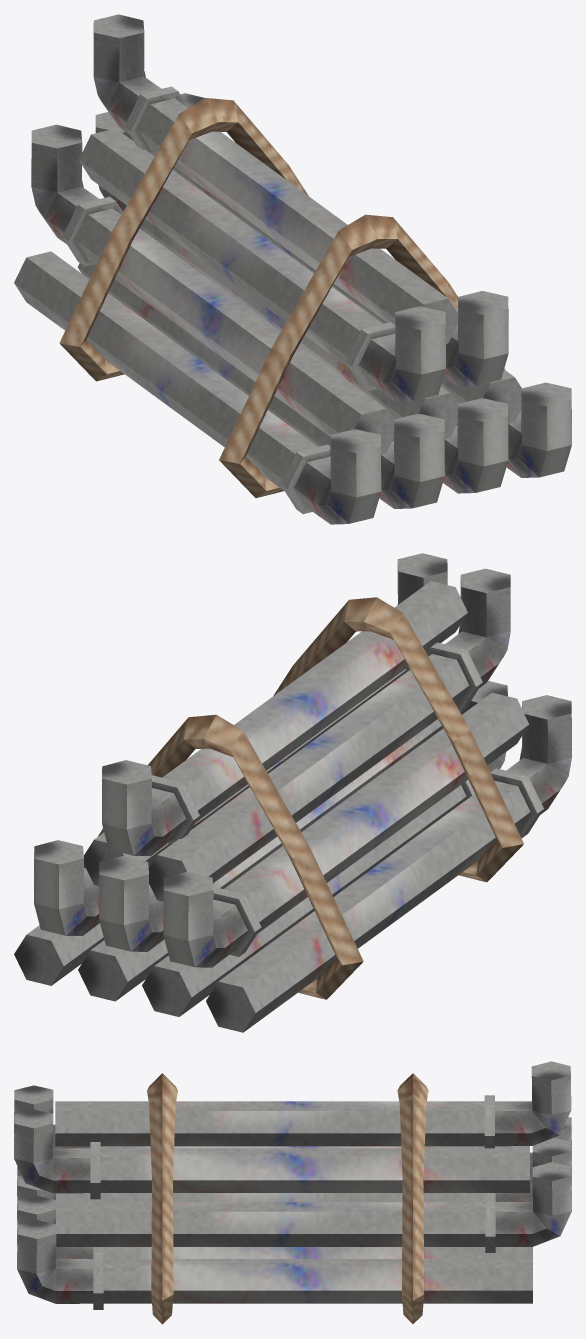
File: stack_of_metal_pipes.fbx
The picture shows the model from 3 angles, top to bottom: view 1: azimuth 30°, elevation 25°; view 2: azimuth 150°, elevation 25°; view 3: azimuth 270°, elevation 25°; orthographic projection. The views are drawn at different scales.
Parts seen in each view (by area): view 1: MetalPipeStack; view 2: MetalPipeStack; view 3: MetalPipeStack.
Part boxes in pixels (bbox=[...]): MetalPipeStack: bbox=[14, 14, 571, 524]; MetalPipeStack: bbox=[14, 553, 571, 1032]; MetalPipeStack: bbox=[14, 1061, 571, 1324].
Size of the model in its own units: 0.2091 by 0.1762 by 0.4304.
